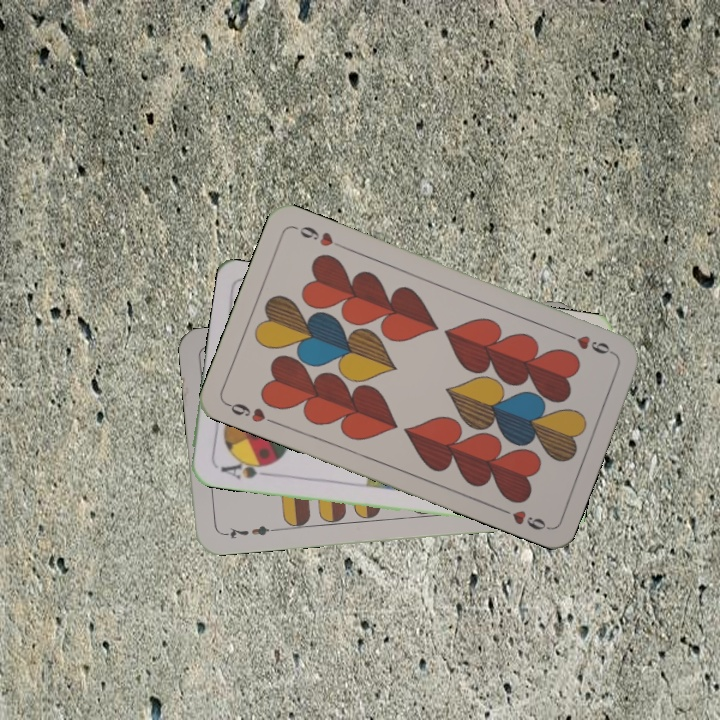E7: (219, 521, 278, 542)
H9: (560, 328, 617, 358), (222, 398, 279, 427)
SA: (217, 454, 273, 482)
